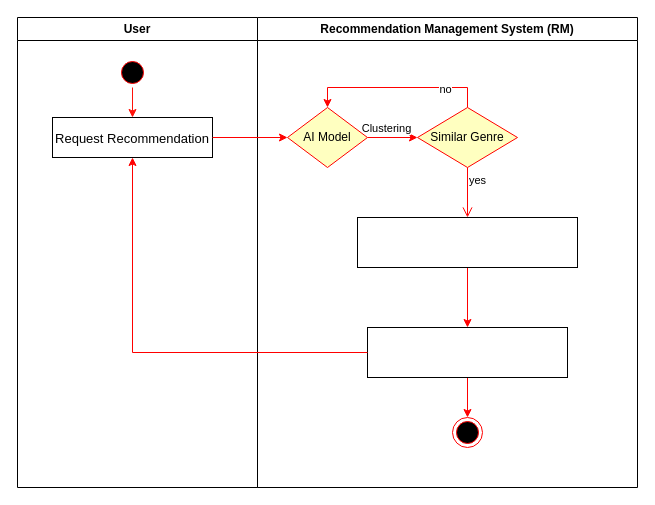
This 655x505 diagram has some shape labels left out. Each missing label, with the centre of its shape:
"Return Song Recommendation" belongs at pixel 467 352.
"Return song with top similarity index" belongs at pixel 467 242.
